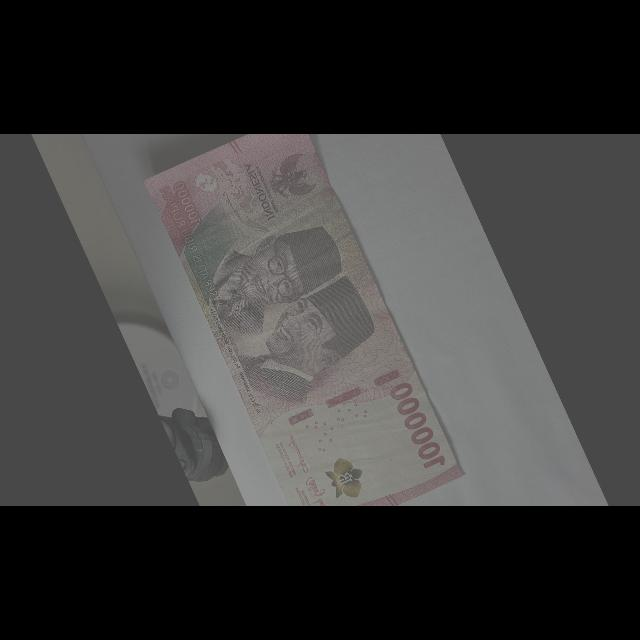Palsu-100k: (136, 106, 478, 574)
Tinta-Palsu-100k: (320, 450, 371, 506)
